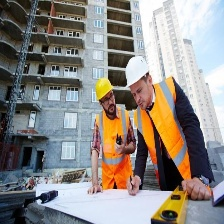helmet: (123, 54, 149, 90), (95, 76, 115, 105)
person: (124, 55, 198, 203), (89, 77, 137, 196)
vest: (136, 88, 190, 183), (95, 112, 134, 180)
